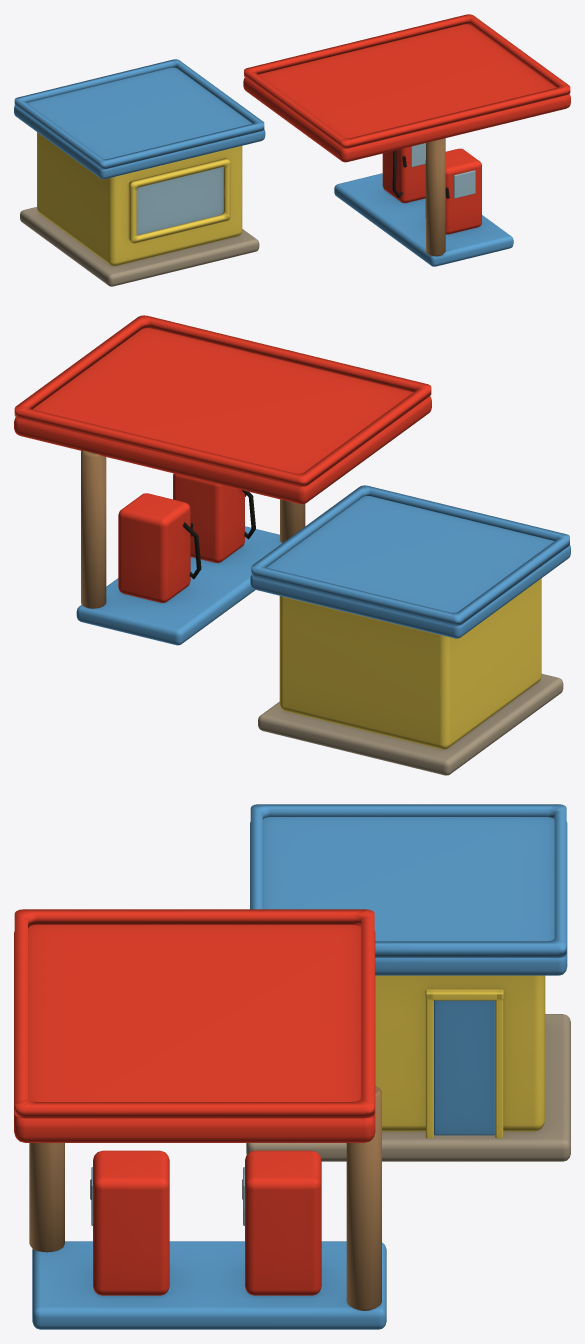
Rendered from petrol-station.fbx.
3 views of the same model, one above another, from view 1: azimuth 30°, elevation 25°; view 2: azimuth 150°, elevation 25°; view 3: azimuth 270°, elevation 25° (orthographic). The views are drawn at different scales.
Parts seen in each view (by area): view 1: petrol-station; view 2: petrol-station; view 3: petrol-station.
Part boxes in pixels (bbox=[...]): petrol-station: bbox=[14, 14, 570, 286]; petrol-station: bbox=[14, 315, 570, 775]; petrol-station: bbox=[14, 804, 570, 1329].
Bounding box in the file's own units: 6000 × 2153 × 4023.
1 material, 1 textured.
